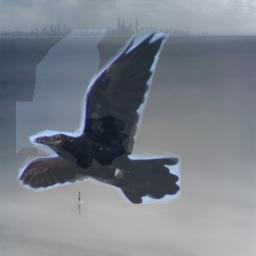Crow: (16, 29, 181, 204)
